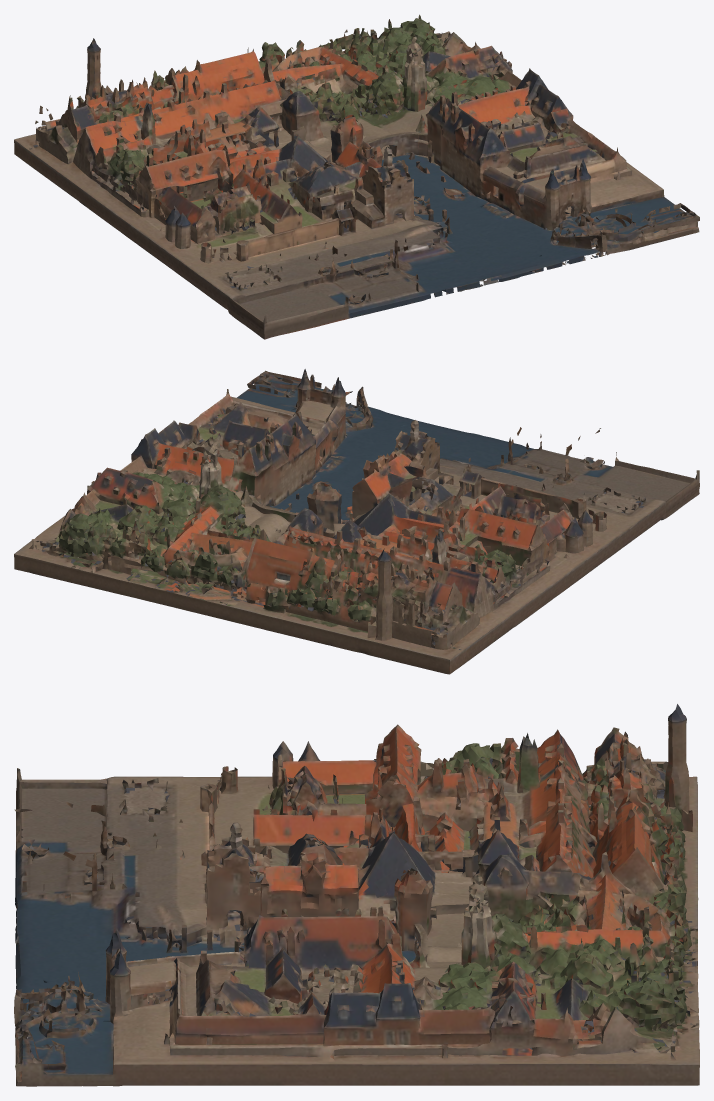
The model's file is view-of-delft.glb.
The picture shows the model from 3 angles, top to bottom: view 1: azimuth 30°, elevation 25°; view 2: azimuth 150°, elevation 25°; view 3: azimuth 270°, elevation 25°; orthographic projection. The views are drawn at different scales.
Visible parts, largest first — view 1: output; view 2: output; view 3: output.
Boxes of the visible parts, left/top/right/bottom form: output: left=14, top=14, right=699, bottom=339; output: left=14, top=369, right=699, bottom=674; output: left=14, top=704, right=699, bottom=1086.
Size of the model in its own units: 1.9 by 0.445 by 1.91.
1 material, 1 textured.
